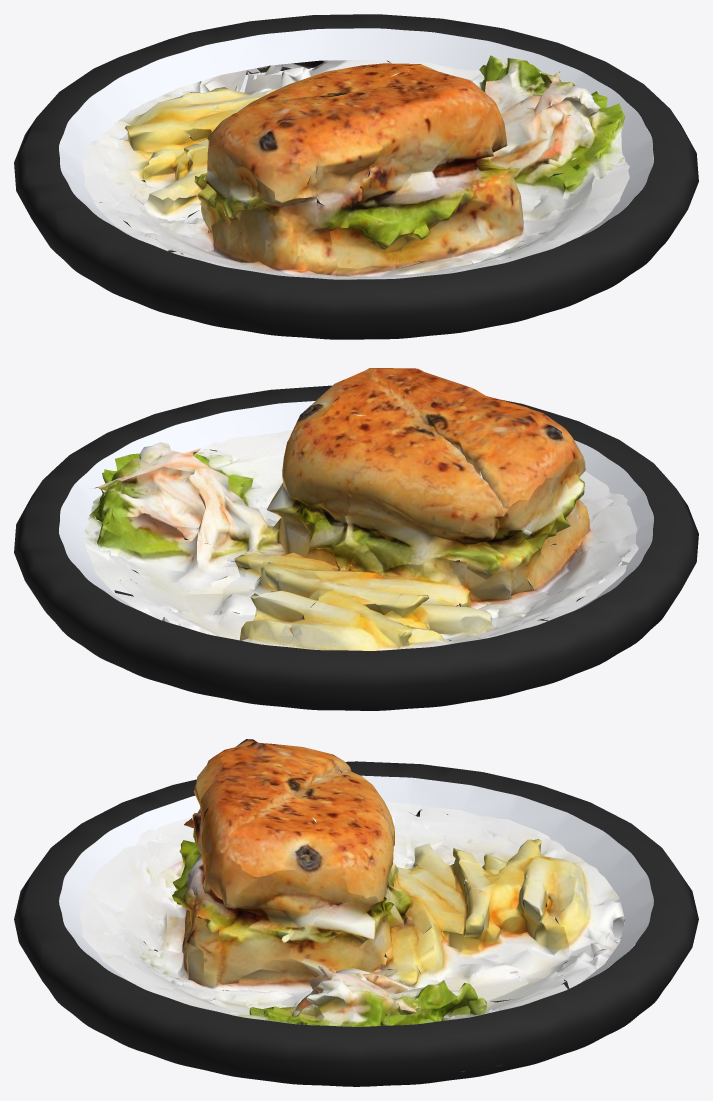
Rendered from sanduiche-batatas-v03.glb.
3 views of the same model, one above another, from view 1: azimuth 30°, elevation 25°; view 2: azimuth 150°, elevation 25°; view 3: azimuth 270°, elevation 25° (orthographic).
Visible parts, largest first — view 1: Object_6, Object_4, Object_5; view 2: Object_6, Object_4, Object_5; view 3: Object_6, Object_4, Object_5.
Part boxes in pixels (<box>): Object_6: <box>59,28,653,279</box>; Object_4: <box>14,14,698,339</box>; Object_5: <box>59,28,660,279</box>; Object_6: <box>59,368,653,701</box>; Object_4: <box>14,385,698,710</box>; Object_5: <box>59,401,653,650</box>; Object_6: <box>59,739,653,1072</box>; Object_4: <box>14,761,698,1086</box>; Object_5: <box>59,775,653,1036</box>.
Size of the model in its own units: 0.28 by 0.0729 by 0.28.
3 materials, 1 textured.
